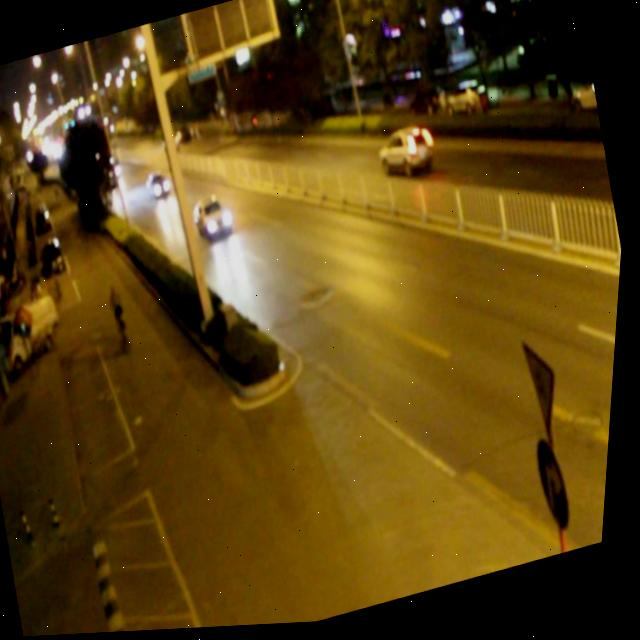car: (376, 124, 441, 188), (191, 192, 238, 244), (145, 167, 175, 201), (161, 134, 183, 157)
